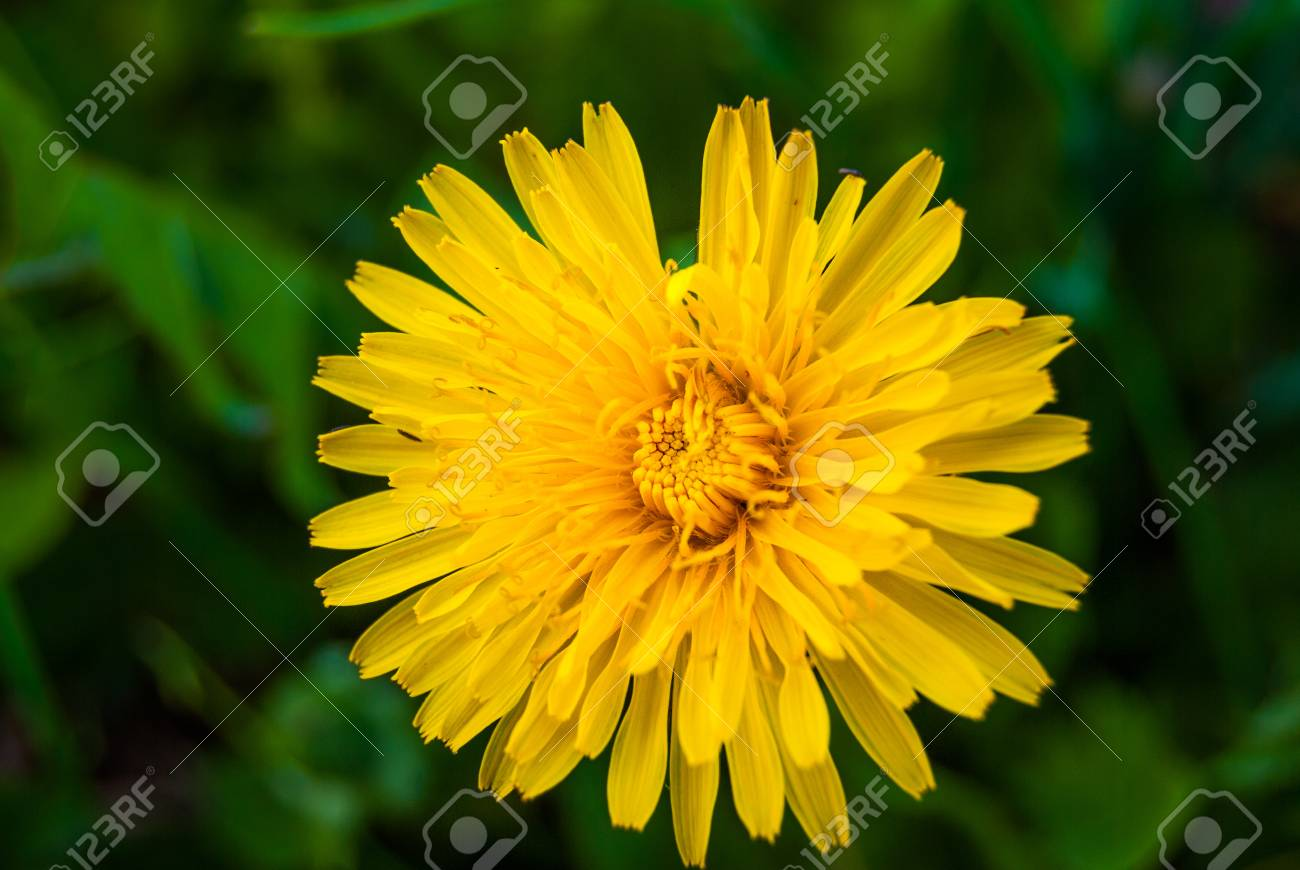dandelion: (348, 161, 1069, 838)
